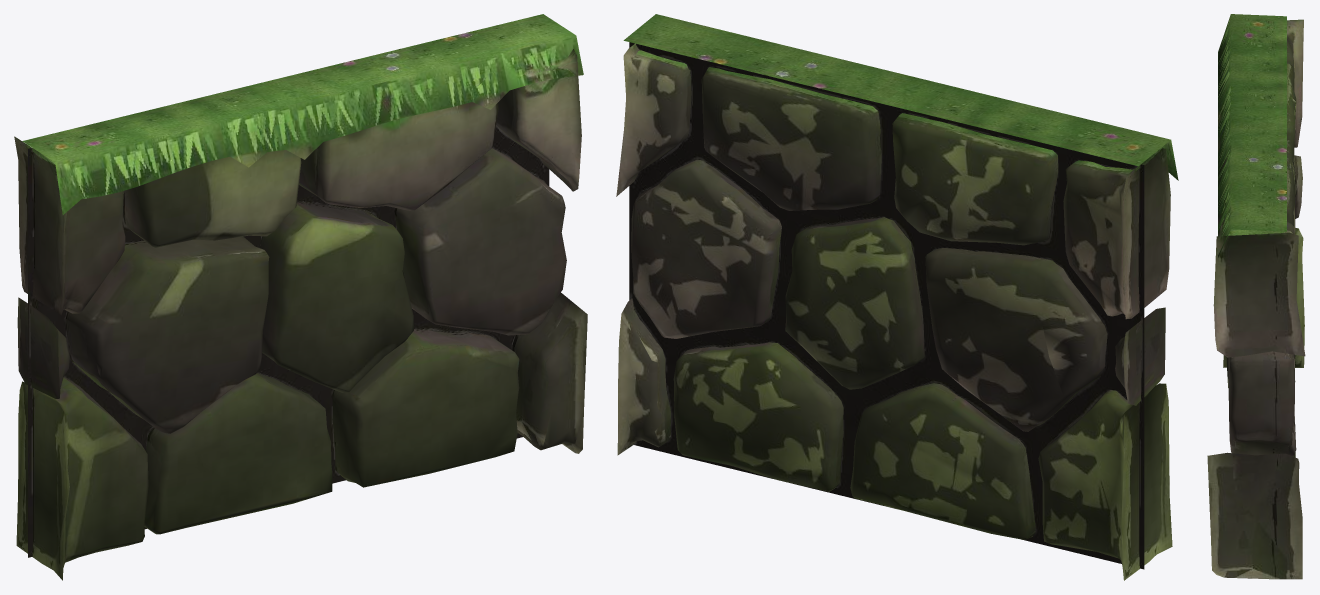
Rendered from wall2_c.glb.
The picture shows the model from 3 angles, left to right: view 1: azimuth 30°, elevation 25°; view 2: azimuth 150°, elevation 25°; view 3: azimuth 270°, elevation 25°; orthographic projection. The views are drawn at different scales.
Parts seen in each view (by area): view 1: wall2_c; view 2: wall2_c; view 3: wall2_c.
Boxes of the visible parts, bbox=[...] form: wall2_c: bbox=[14, 14, 587, 580]; wall2_c: bbox=[616, 14, 1178, 580]; wall2_c: bbox=[1207, 14, 1305, 579].
Size of the model in its own units: 2 by 1.53 by 0.3847.
1 material, 1 textured.
